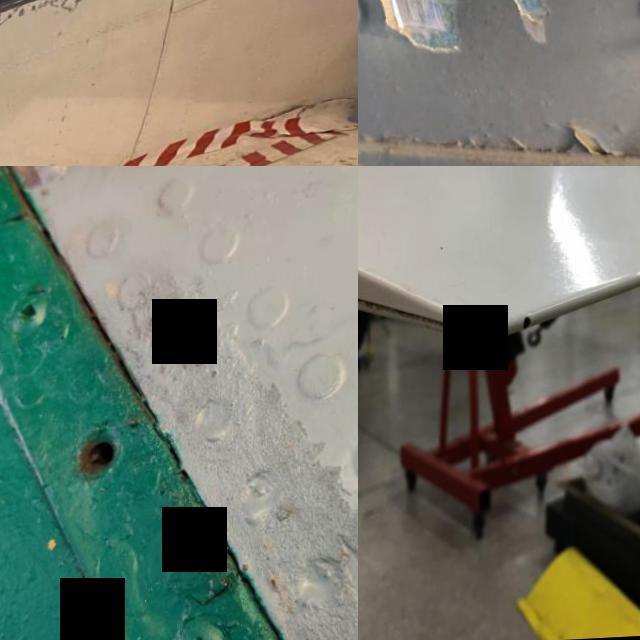Crack: (456, 270, 540, 350), (307, 99, 358, 117), (264, 109, 312, 128)
Missing_Fastener: (53, 415, 147, 505)
